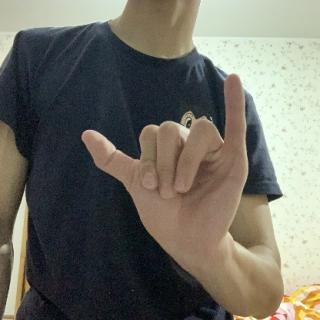YA: (77, 68, 255, 263)
